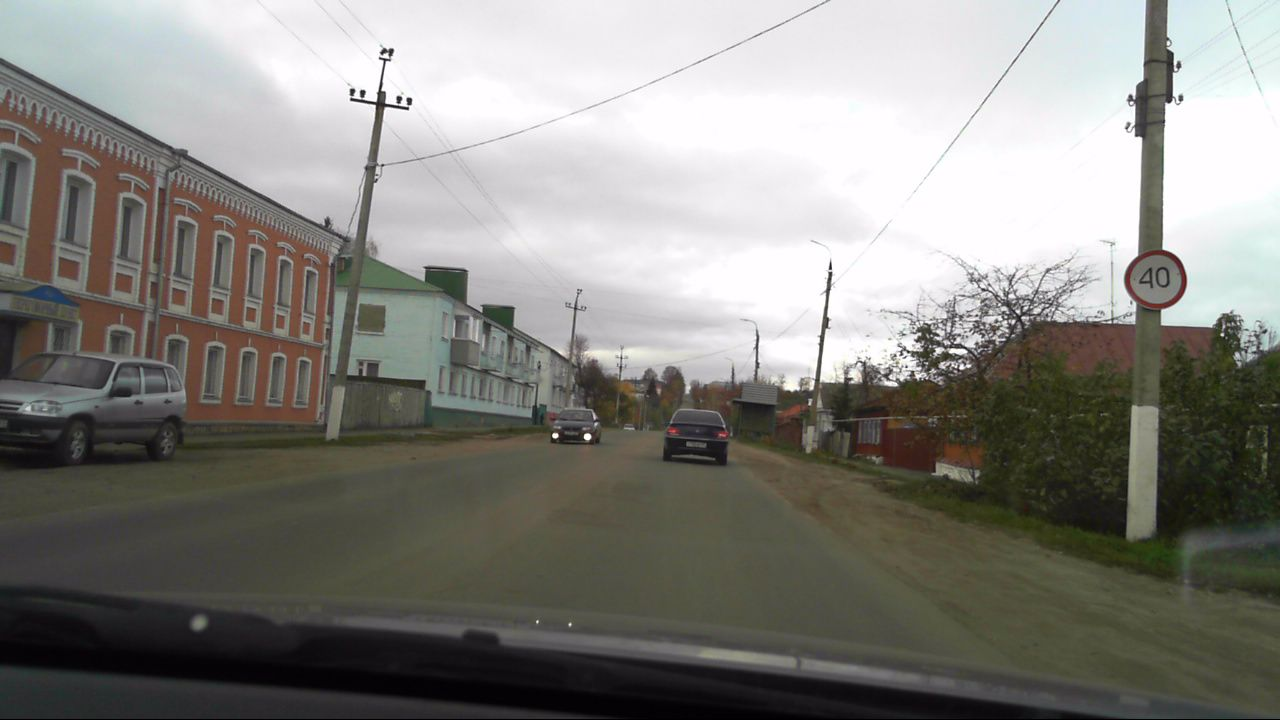speed_warning_40: (1122, 247, 1187, 310)
